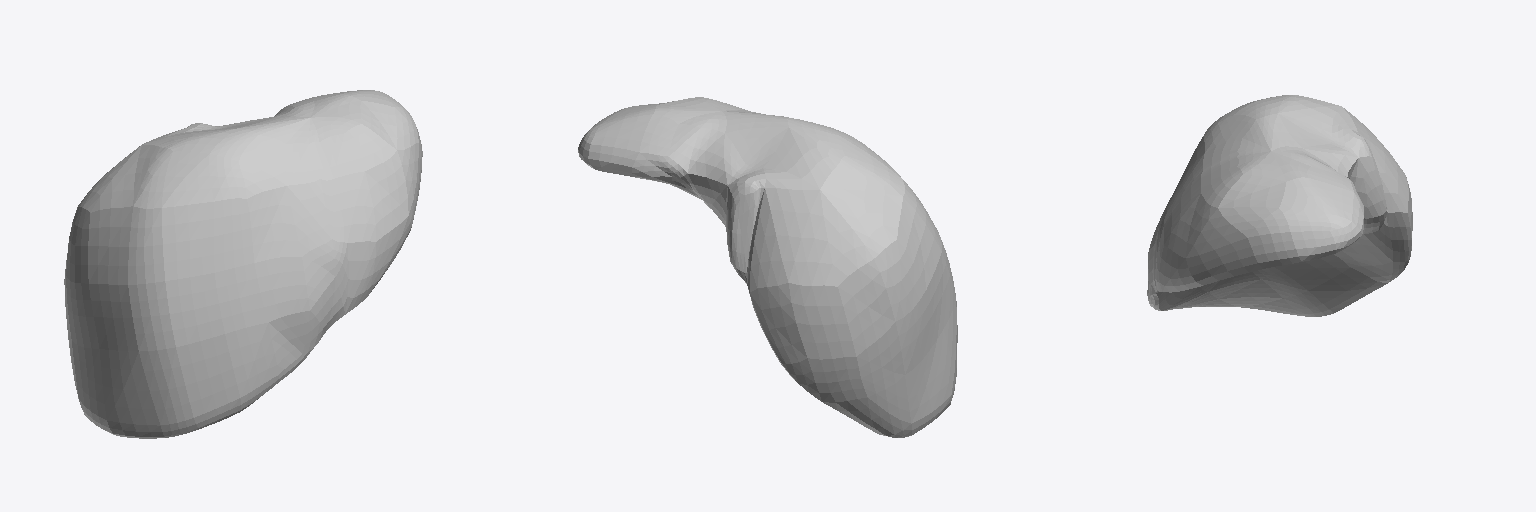
File: visual_foie_bgn.obj
3 views of the same model, side by side, from view 1: azimuth 30°, elevation 25°; view 2: azimuth 150°, elevation 25°; view 3: azimuth 270°, elevation 25° (orthographic).
Visible parts, largest first — view 1: 1_VisualModel; view 2: 1_VisualModel; view 3: 1_VisualModel.
Part boxes in pixels (x1,y1,x2,y2): 1_VisualModel: (64,90,422,438); 1_VisualModel: (578,97,957,437); 1_VisualModel: (1147,95,1412,316).
Size of the model in its own units: 6.39 by 4.91 by 4.41.